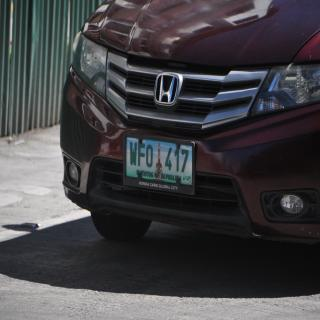license: (124, 135, 196, 196)
